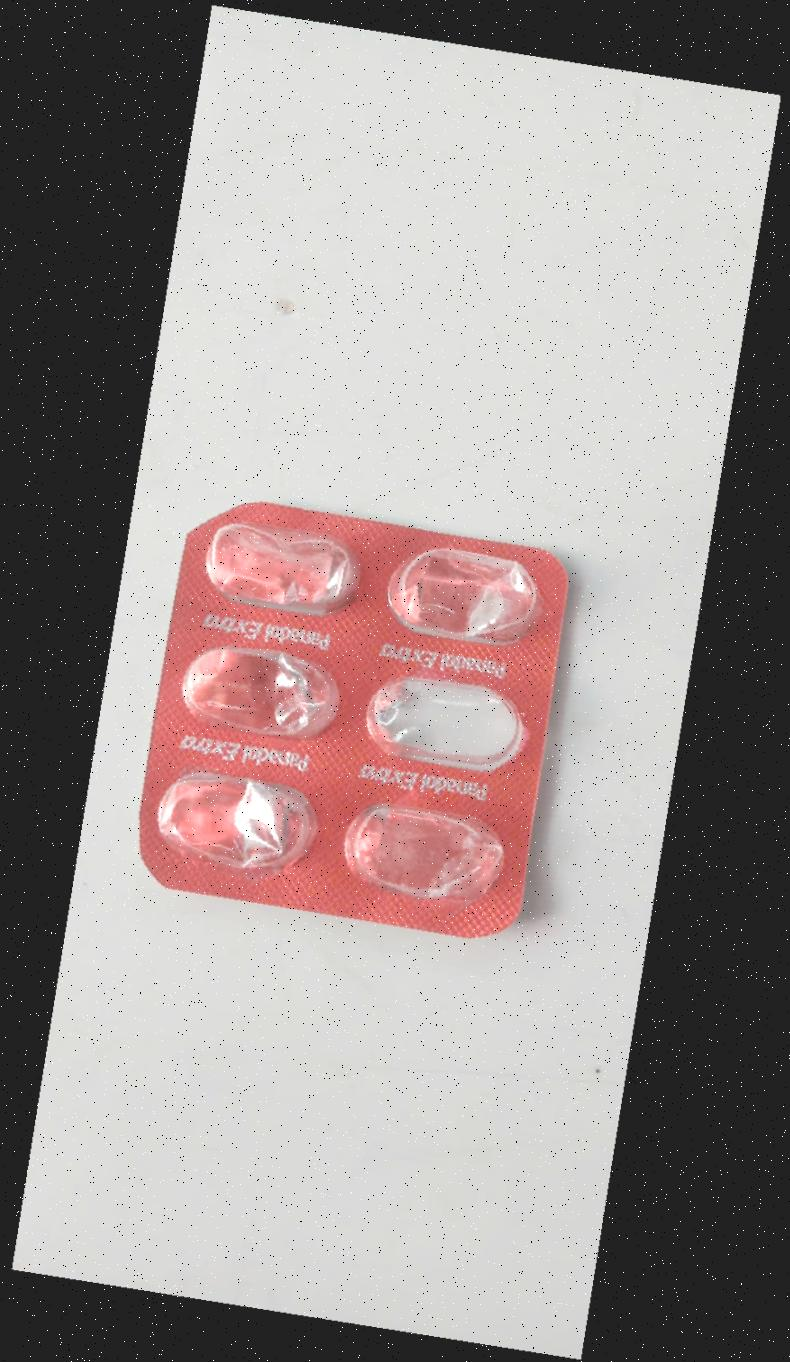Empty: (195, 510, 369, 626), (338, 792, 512, 908), (381, 533, 555, 649), (149, 761, 322, 877), (358, 665, 532, 780), (173, 633, 346, 748)
